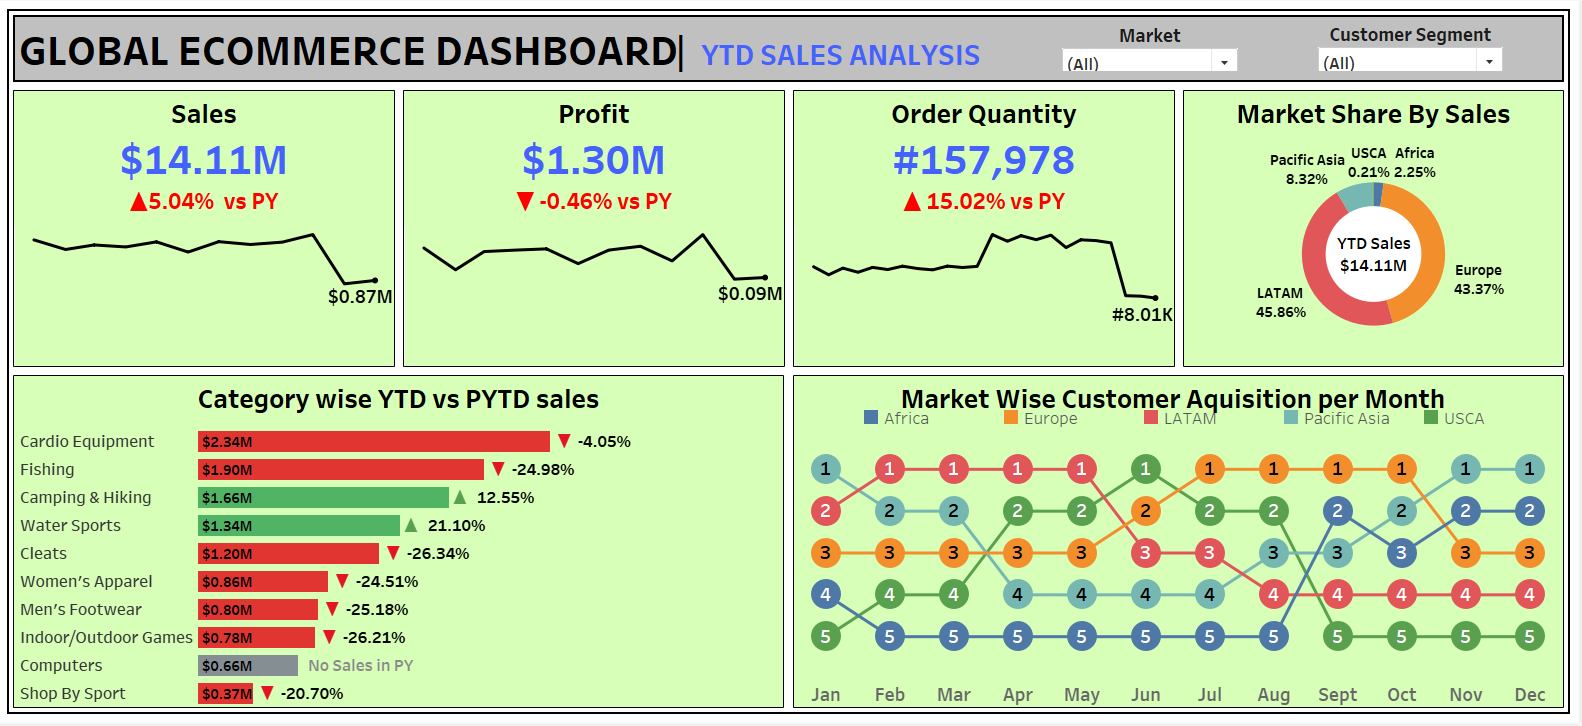

The dashboard page shown, as its layout file describes it:
{"tool":"tableau","page":{"name":"Dashboard 2","canvas":[1000,1000],"units":"permille","ordinal":0},"visuals":[{"type":"title","box":[6.2,13.3,987.5,100]},{"type":"text","box":[425,16,62.5,100]},{"type":"filter","title":"Sales KPI","param":"[federated.1kn5jk80qgaldc106exa20k25kt8].[none:Customer Segment:nk]","box":[833.1,28,121.2,69.3]},{"type":"filter","title":"Sales KPI","param":"[federated.1kn5jk80qgaldc106exa20k25kt8].[none:Market:nk]","box":[671.2,29.3,115,68]},{"type":"worksheet","title":"Sales KPI","mark":"Automatic","rows":["Sales"],"cols":["Order Date"],"box":[6.2,113.3,246.9,380]},{"type":"worksheet","title":"Profit KPI ","mark":"Automatic","rows":["Profit Per Order"],"cols":["Order Date"],"box":[253.1,113.3,246.9,380]},{"type":"worksheet","title":"Order-Quantity KPI","mark":"Automatic","rows":["Order Quantity"],"cols":["Order Date"],"box":[500,113.3,246.9,380]},{"type":"worksheet","title":"Market Share By Sales","mark":"Pie","cols":["Calculation_1853794257378672656","Calculation_1853794257378635791"],"box":[746.9,113.3,246.9,380]},{"type":"worksheet","title":"Category wise YTD vs PYTD sales","mark":"Bar","rows":["Category Name"],"cols":["Calculation_1853794257379454993","Calculation_1853794257379454993"],"box":[6.2,493.3,493.8,493.3]},{"type":"worksheet","title":"Market Wise Customer Aquisition per Month  ","mark":"Automatic","cols":["Order Date"],"box":[500,493.3,493.8,493.3]}]}

Visuals, with their boxes on the dashboard's canvas, which has no fixed pixel size, in thousandths of its width and height (x1, y1, x2, y2). These are canvas units, not pixel positions in the 1582x726 screenshot, which may show the page scaled, cropped or inside an application window:
title: (6, 13, 994, 113)
text: (425, 16, 488, 116)
"Sales KPI" filter: (833, 28, 954, 97)
"Sales KPI" filter: (671, 29, 786, 97)
"Sales KPI" worksheet: (6, 113, 253, 493)
"Profit KPI " worksheet: (253, 113, 500, 493)
"Order-Quantity KPI" worksheet: (500, 113, 747, 493)
"Market Share By Sales" worksheet (Pie marks): (747, 113, 994, 493)
"Category wise YTD vs PYTD sales" worksheet (Bar marks): (6, 493, 500, 987)
"Market Wise Customer Aquisition per Month  " worksheet: (500, 493, 994, 987)
